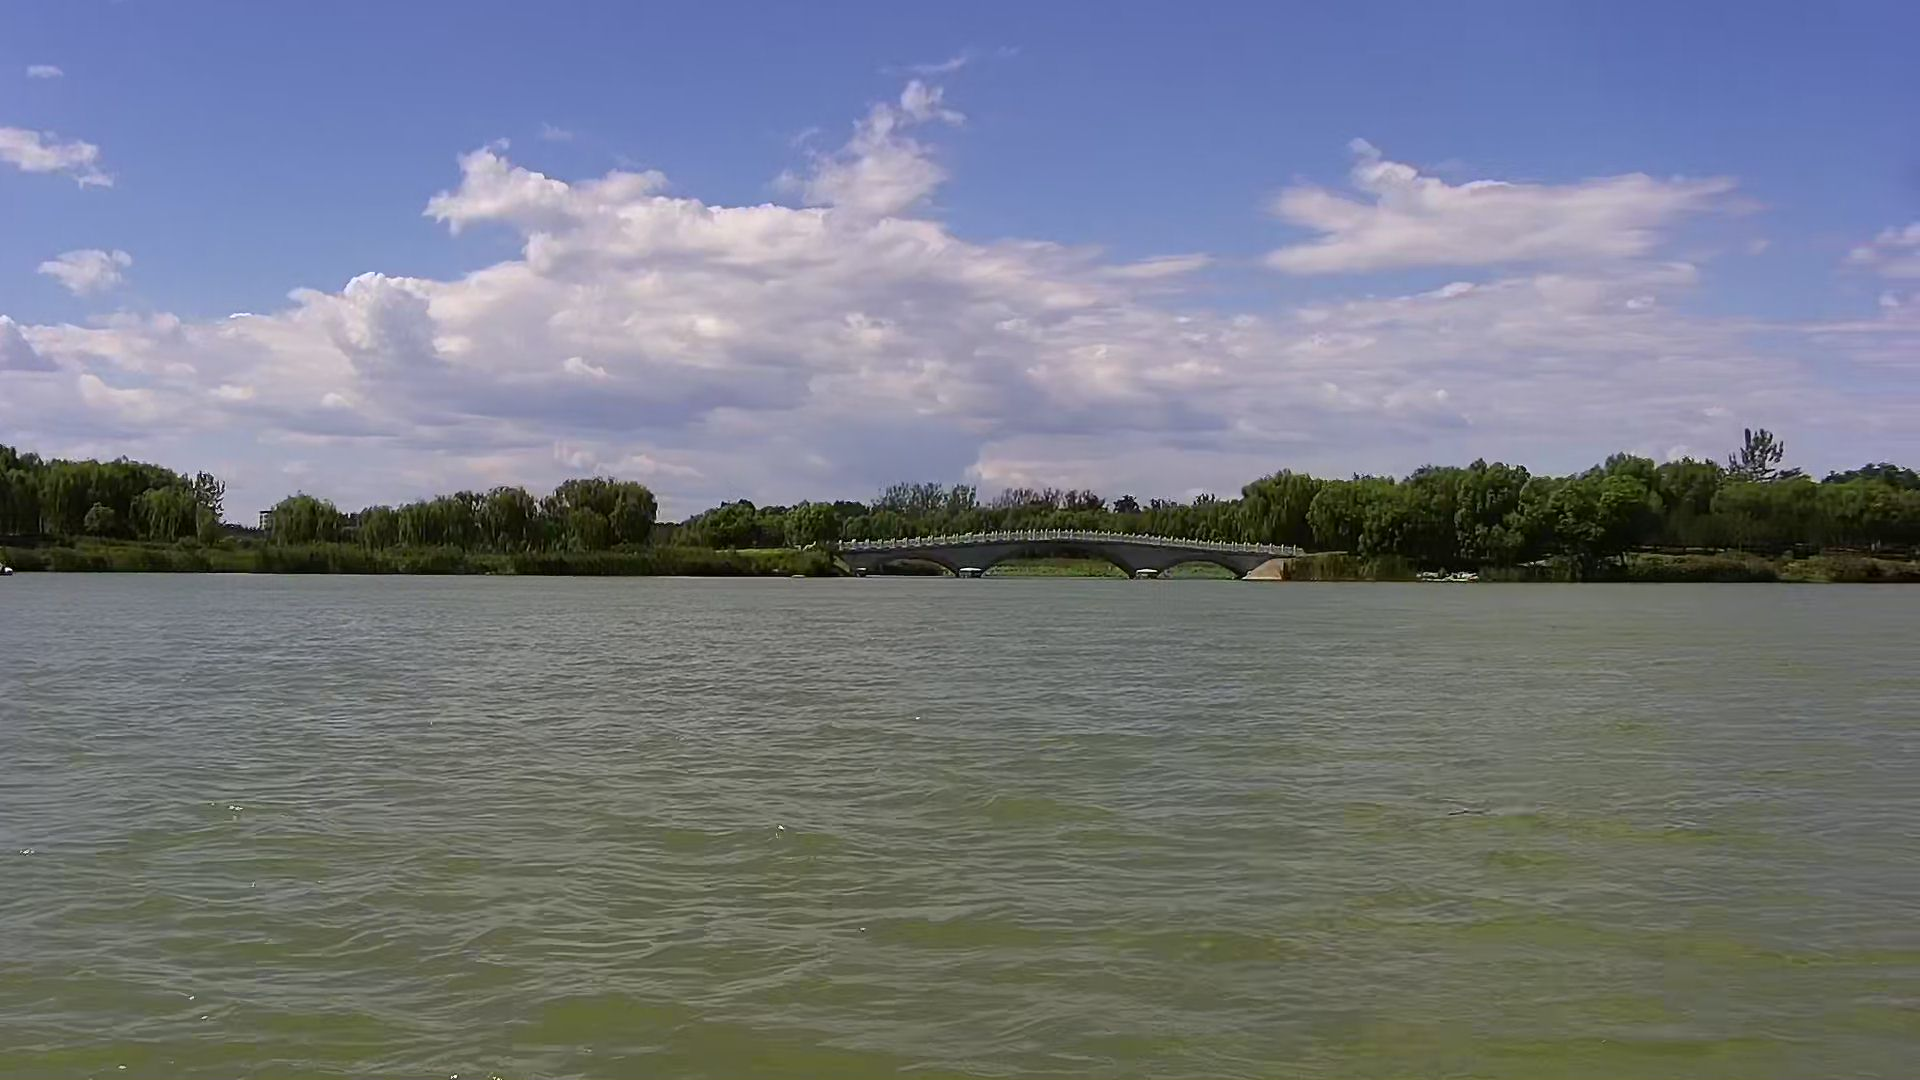bridge: (827, 527, 1298, 579)
